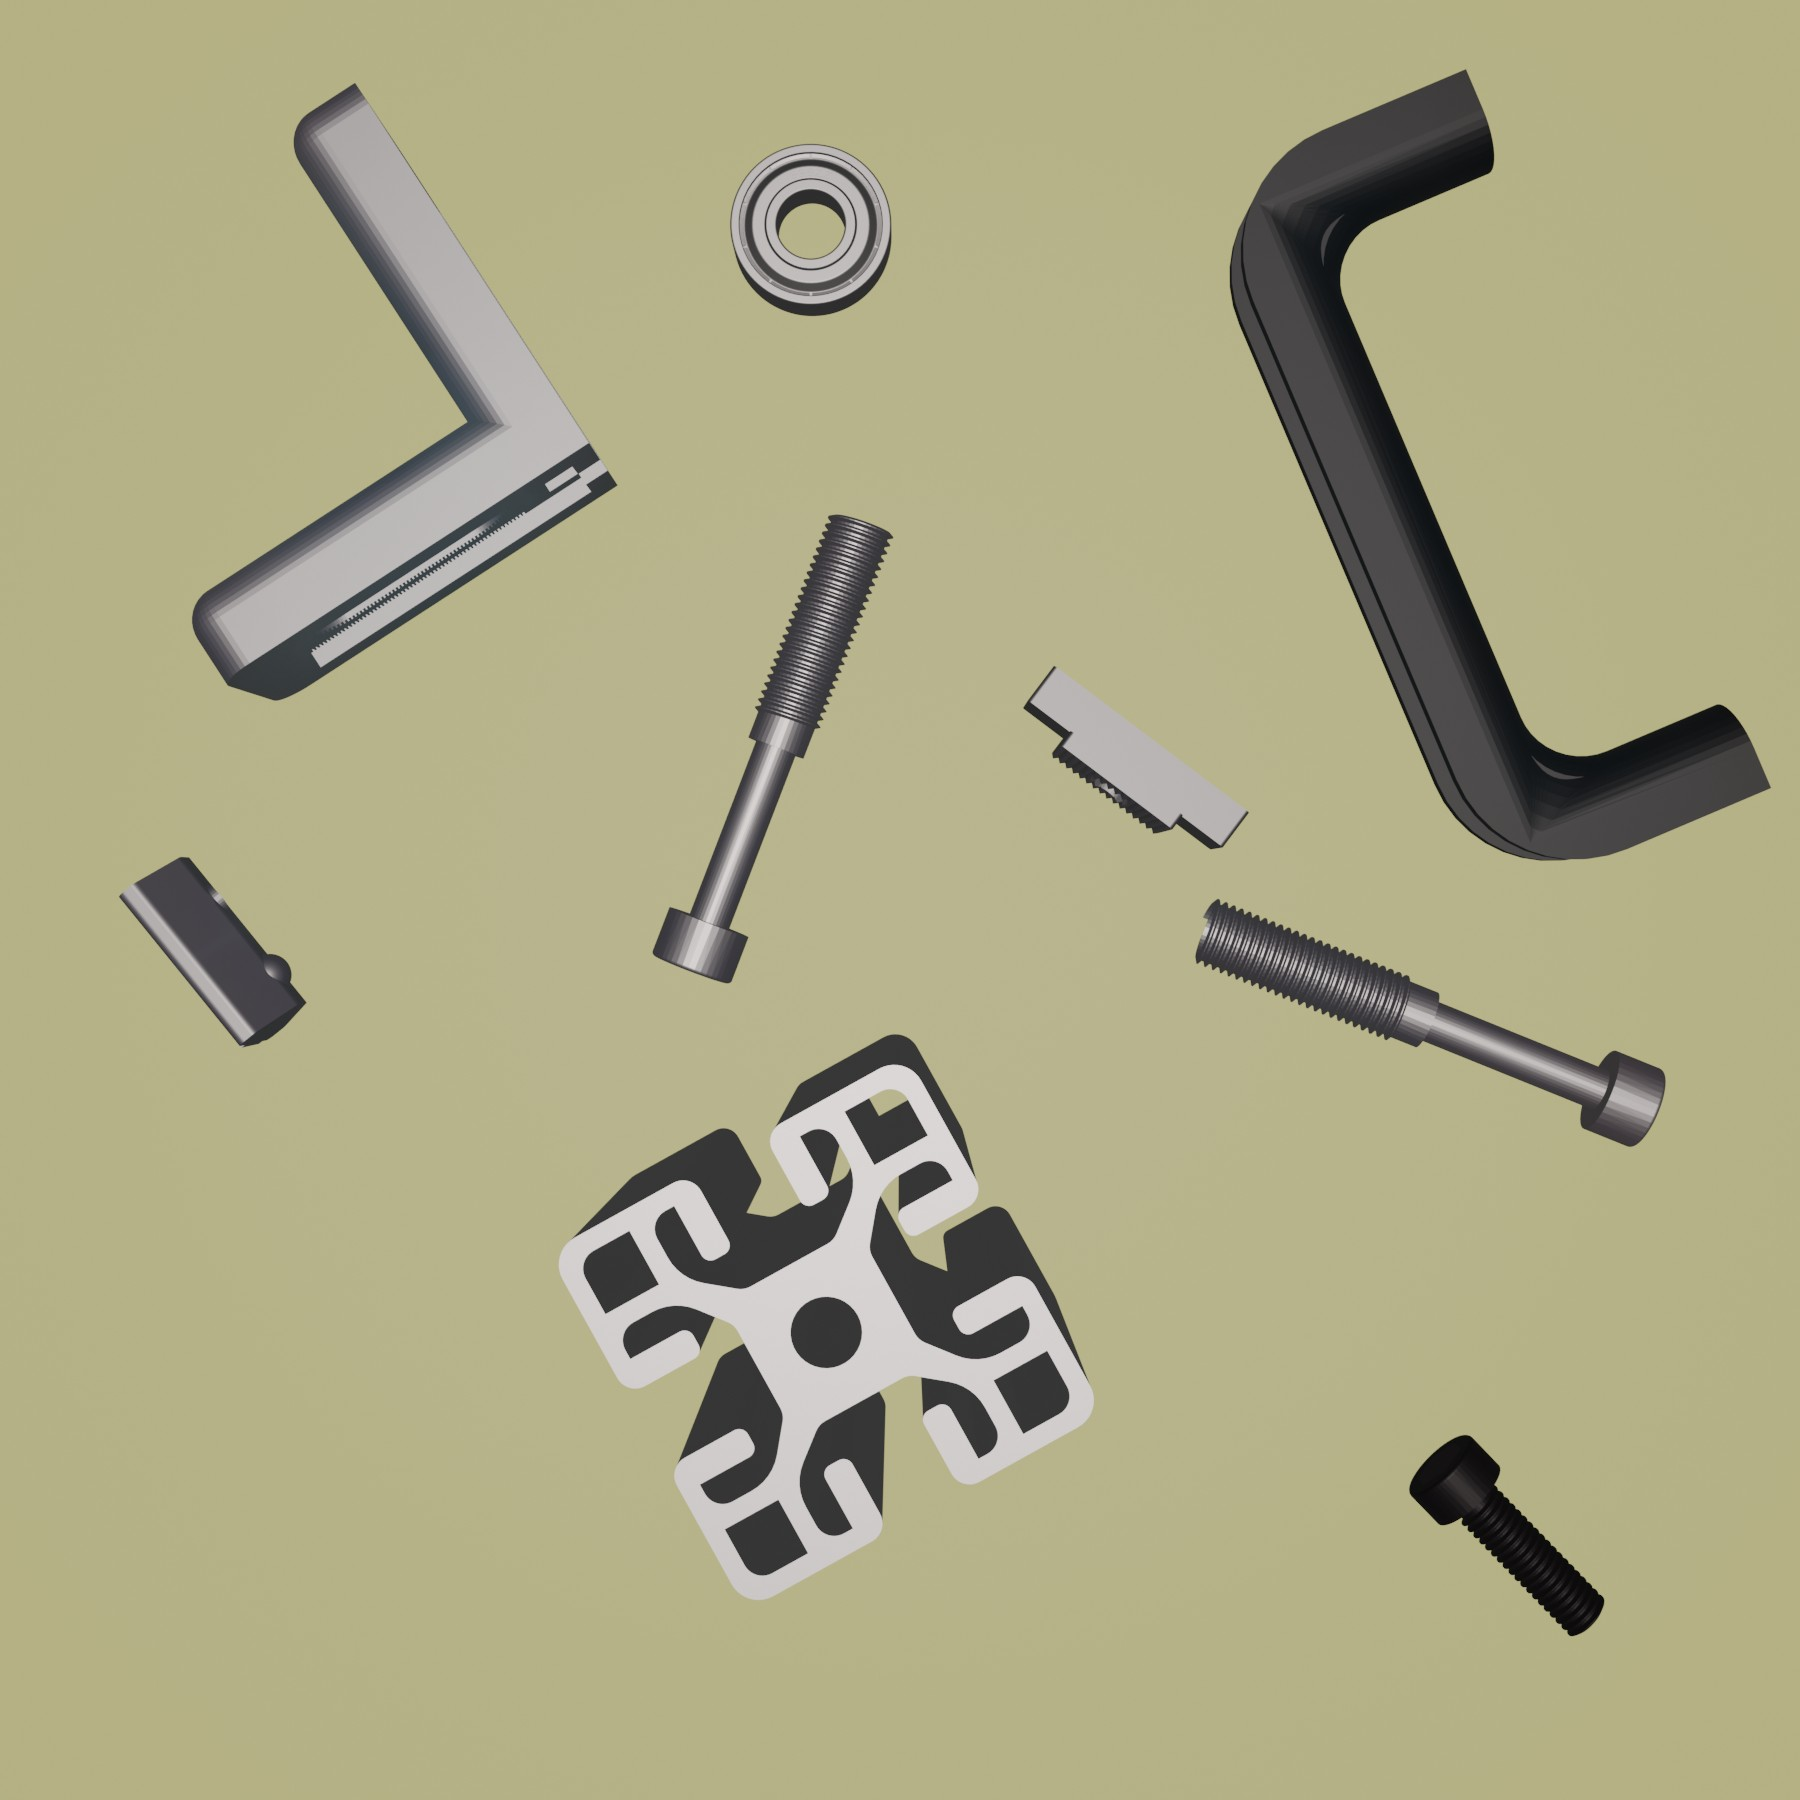Aluminium Extension: (555, 1032, 1098, 1605)
Ball Bearing: (729, 142, 893, 320)
Multiwinkel: (190, 77, 621, 705)
Pull Handle: (1225, 66, 1775, 865)
Shoulder Socket Head Cap Screw: (1190, 897, 1670, 1152), (651, 511, 892, 986)
Socket Head Cap Screw: (1406, 1432, 1605, 1638)
T Nut Square: (1020, 659, 1253, 852)
T Spring Nut: (115, 852, 308, 1050)
